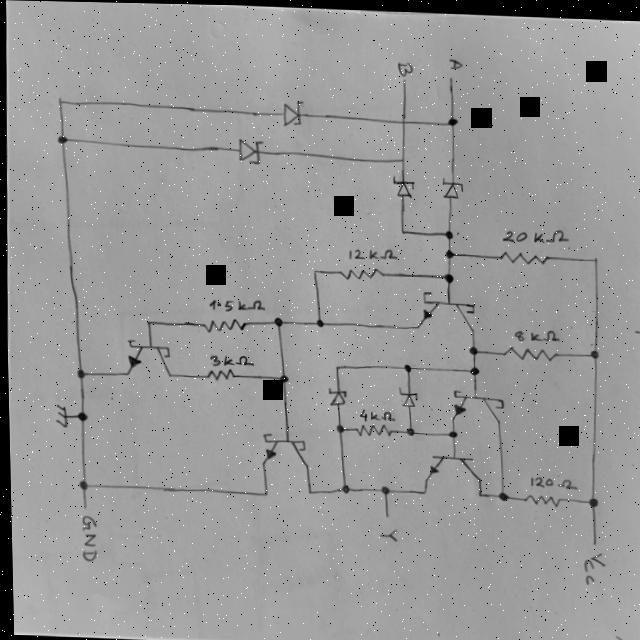crossover: (397, 115, 406, 124)
diode: (235, 133, 266, 166), (278, 95, 306, 125), (439, 172, 463, 197), (390, 172, 415, 196), (394, 384, 417, 405), (326, 384, 346, 403)
ground: (52, 399, 67, 429)
junction: (74, 366, 84, 377), (334, 420, 345, 430), (76, 409, 86, 419), (586, 493, 596, 503), (75, 478, 85, 488), (497, 487, 506, 497), (444, 246, 453, 256), (379, 481, 388, 491), (444, 270, 452, 280), (447, 114, 457, 122), (443, 227, 453, 235), (278, 371, 287, 379), (272, 315, 282, 322), (445, 427, 455, 434), (589, 346, 597, 354), (467, 343, 475, 351), (58, 133, 66, 141), (469, 364, 477, 371), (403, 360, 410, 368), (315, 316, 322, 324), (340, 482, 347, 490), (405, 424, 412, 432), (417, 485, 425, 492), (475, 487, 481, 495), (58, 95, 64, 102), (303, 485, 310, 491), (399, 153, 405, 160), (398, 225, 404, 231), (592, 252, 598, 258), (334, 361, 340, 366), (312, 265, 317, 271), (261, 487, 266, 493), (145, 317, 149, 323)
resistor: (501, 340, 559, 360), (497, 245, 548, 263), (200, 314, 247, 332), (338, 262, 386, 278), (352, 419, 392, 435), (519, 488, 558, 504), (201, 364, 235, 380)
terminal: (586, 533, 598, 543), (445, 71, 453, 81), (79, 500, 87, 509), (399, 73, 408, 80), (382, 510, 389, 516)
text: (495, 221, 570, 243), (76, 512, 97, 564), (579, 545, 605, 582), (207, 294, 263, 311), (347, 242, 397, 261), (525, 471, 576, 487), (513, 324, 559, 340), (207, 351, 252, 366), (356, 405, 393, 419), (395, 55, 413, 74), (377, 525, 396, 538), (448, 53, 464, 68)
transistor: (413, 287, 475, 331), (420, 445, 483, 484), (446, 385, 505, 421), (258, 429, 310, 469), (123, 336, 171, 376)
